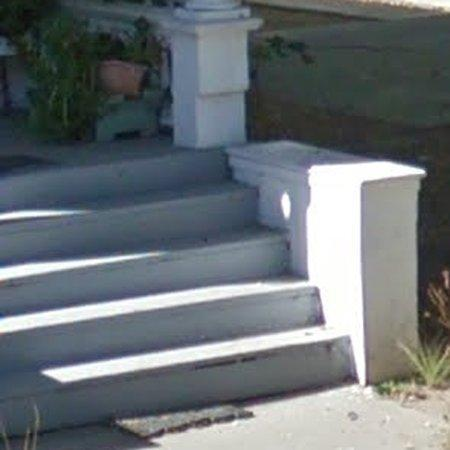stairs: (0, 136, 353, 450)
